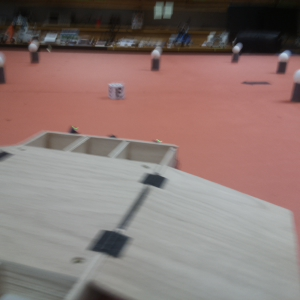blockE: (108, 83, 126, 101)
obstacle: (25, 41, 42, 62), (229, 41, 244, 63), (277, 52, 289, 74), (151, 50, 162, 73), (292, 70, 300, 100), (1, 57, 5, 85)
slope: (96, 165, 300, 300)
start: (242, 77, 270, 88)
